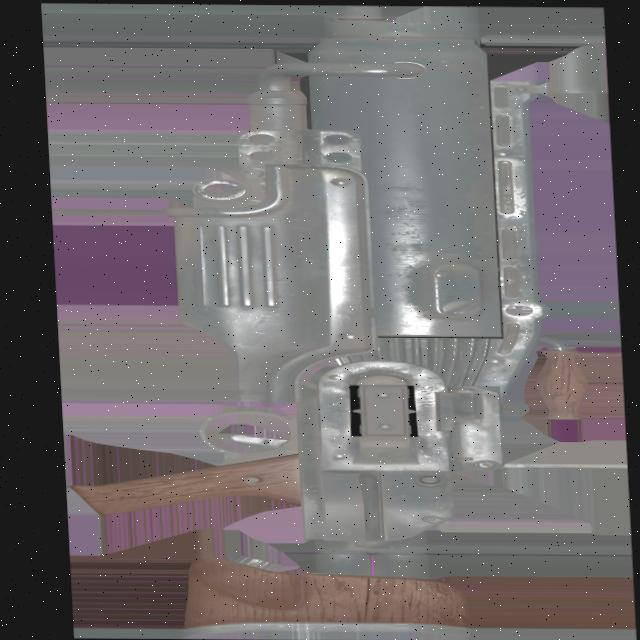firearm: (44, 1, 631, 640)
